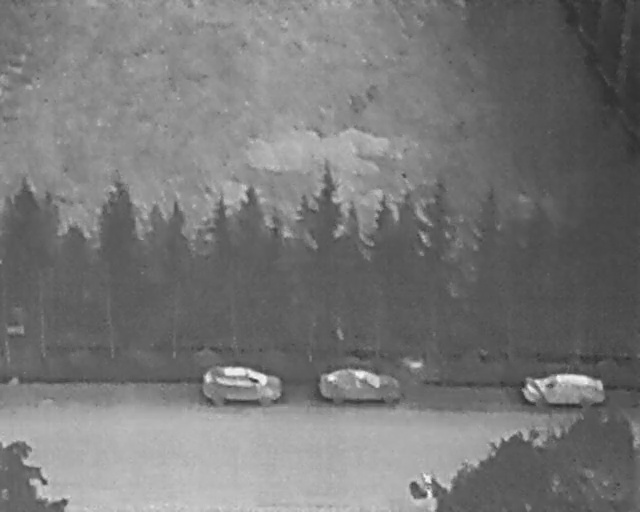Car: (317, 368, 401, 407), (204, 367, 283, 407), (523, 373, 603, 408)
